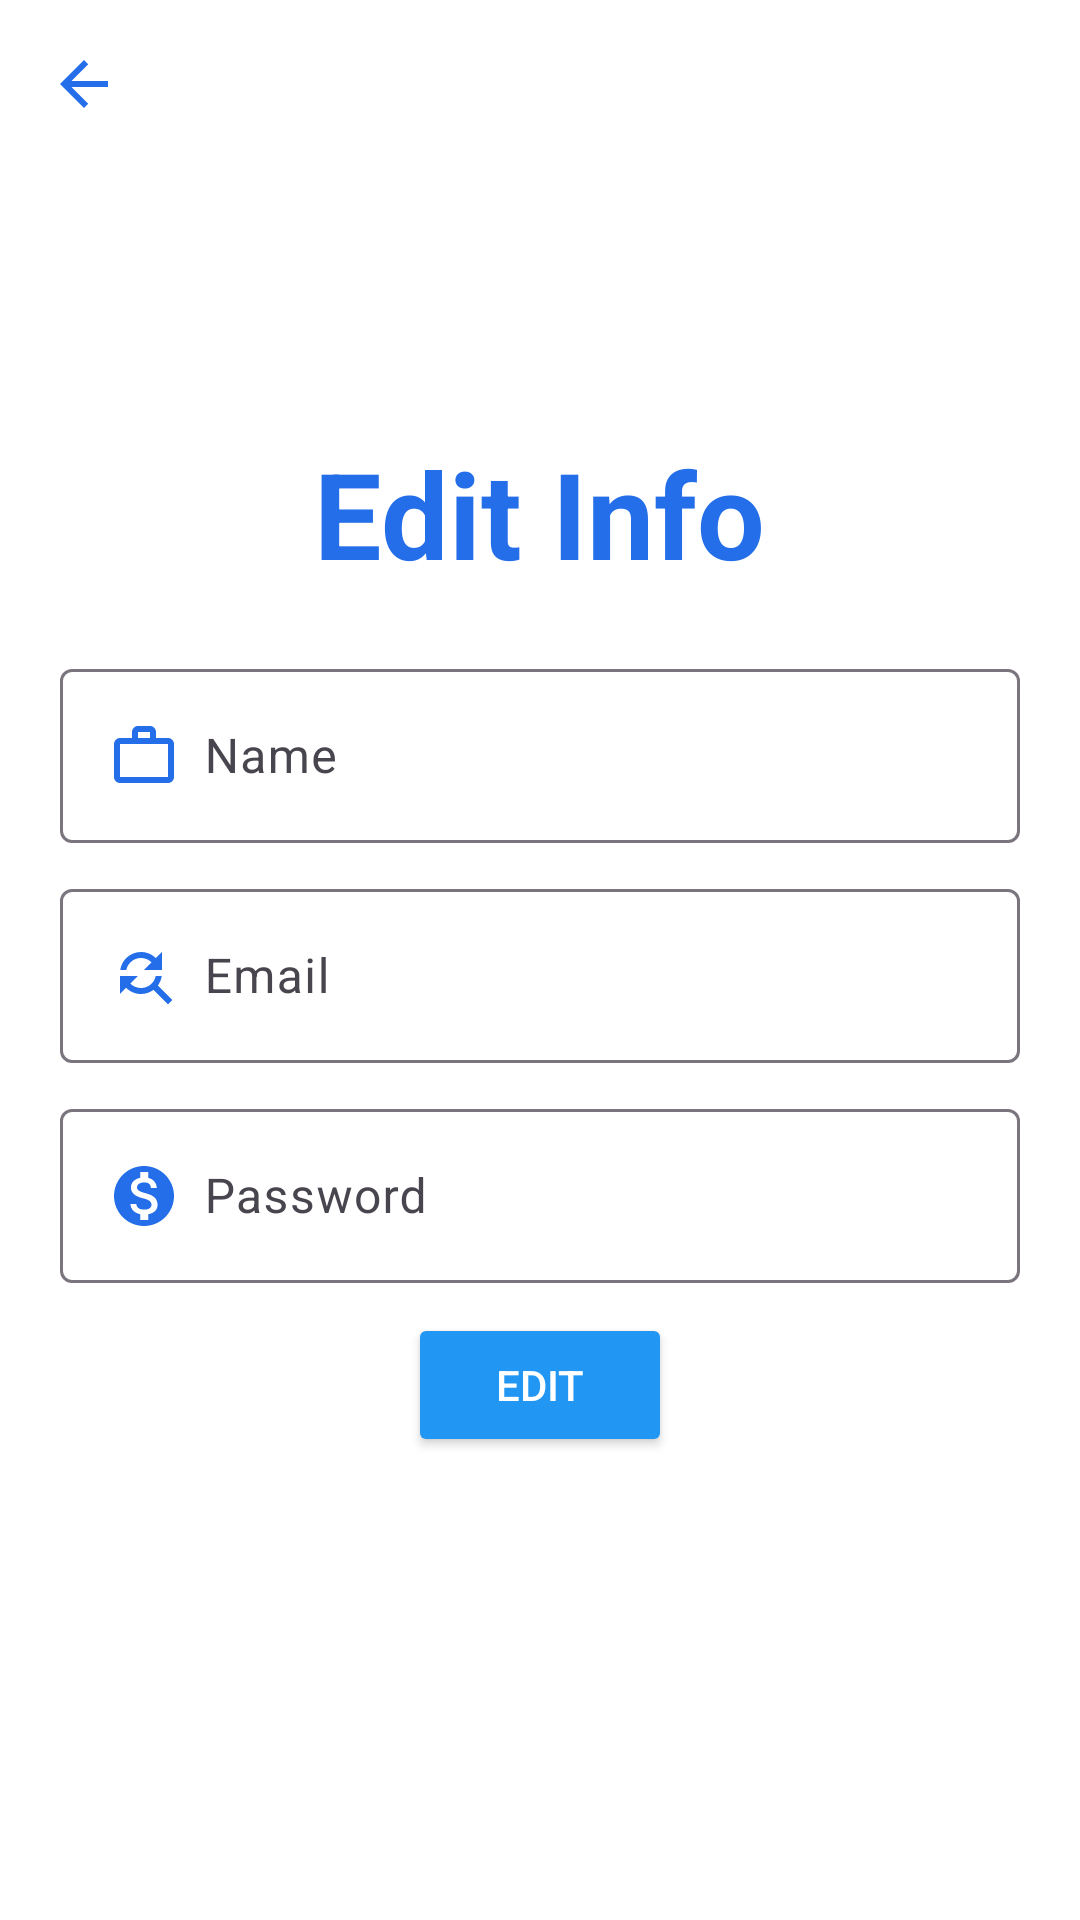

Icons on this 1080×1920 Android screen, each with its box as (x1, y1, x2, y2):
Back: (60, 60, 108, 108)
